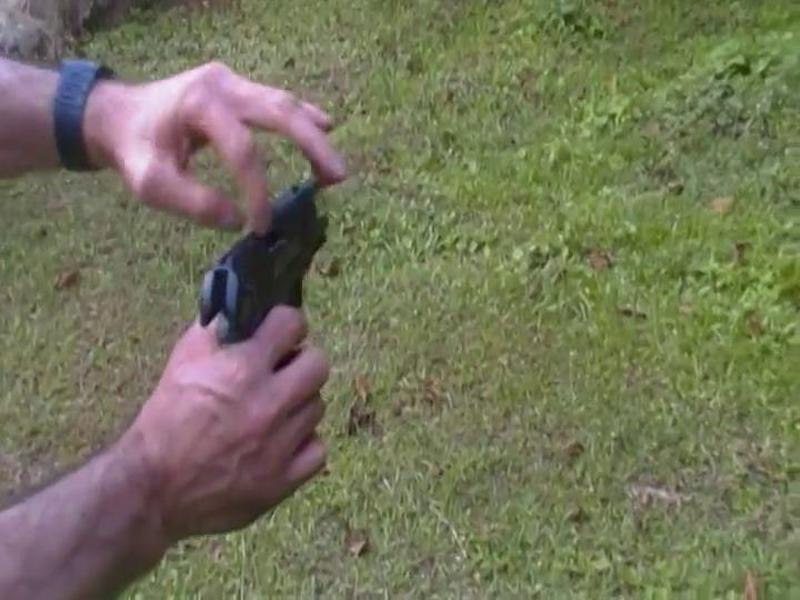Pistola: (163, 163, 353, 403)
